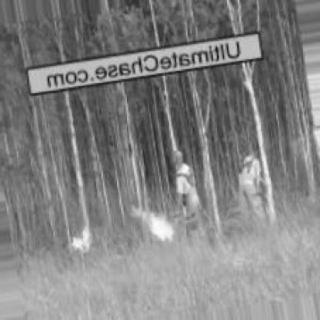Fire: (122, 197, 184, 243)
